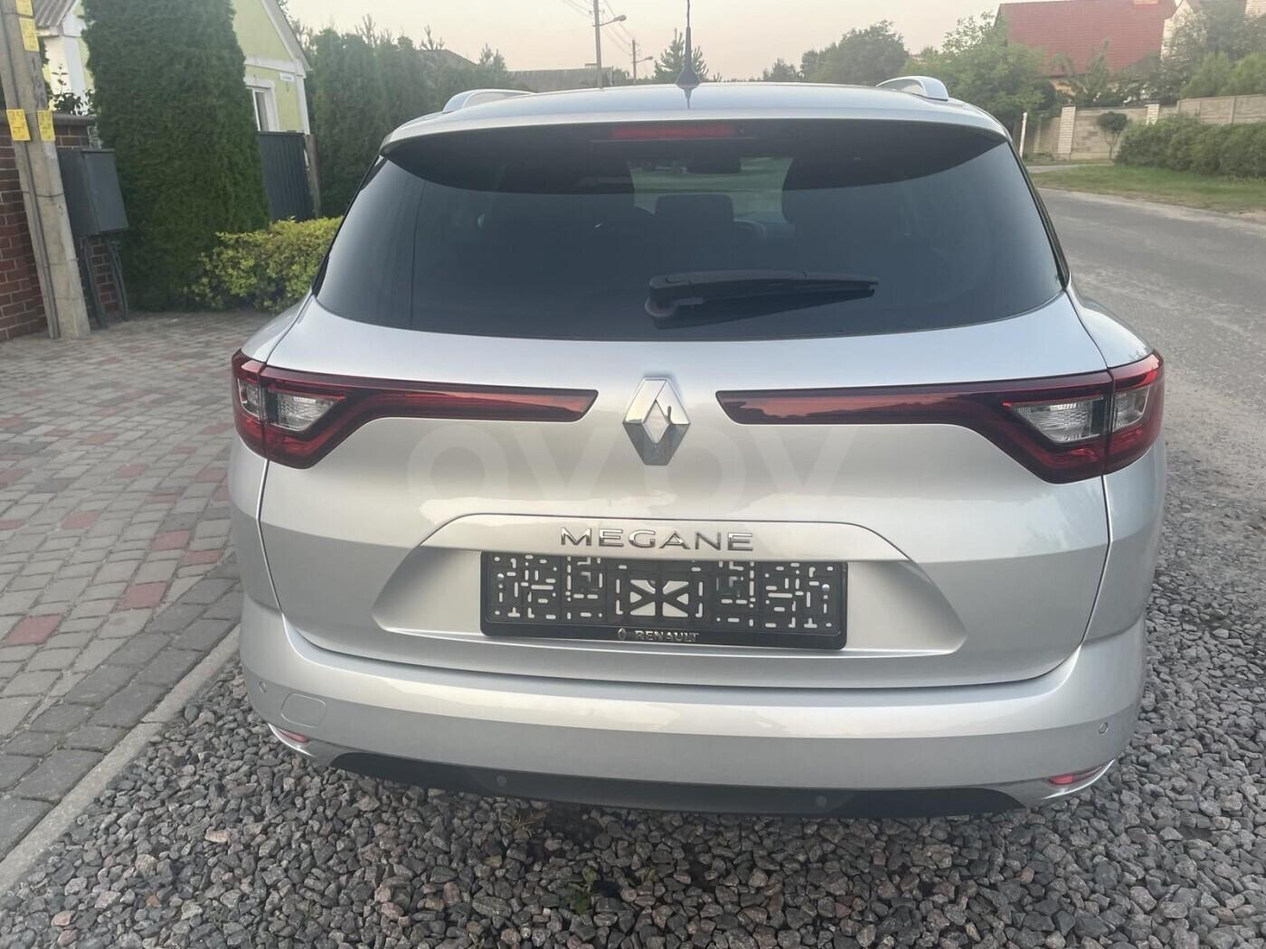Megane_2016-2020: (223, 81, 1173, 815)
